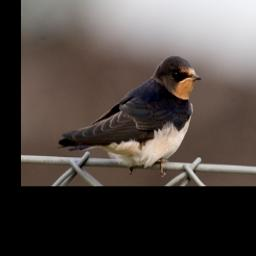Swallow: (57, 53, 202, 177)
